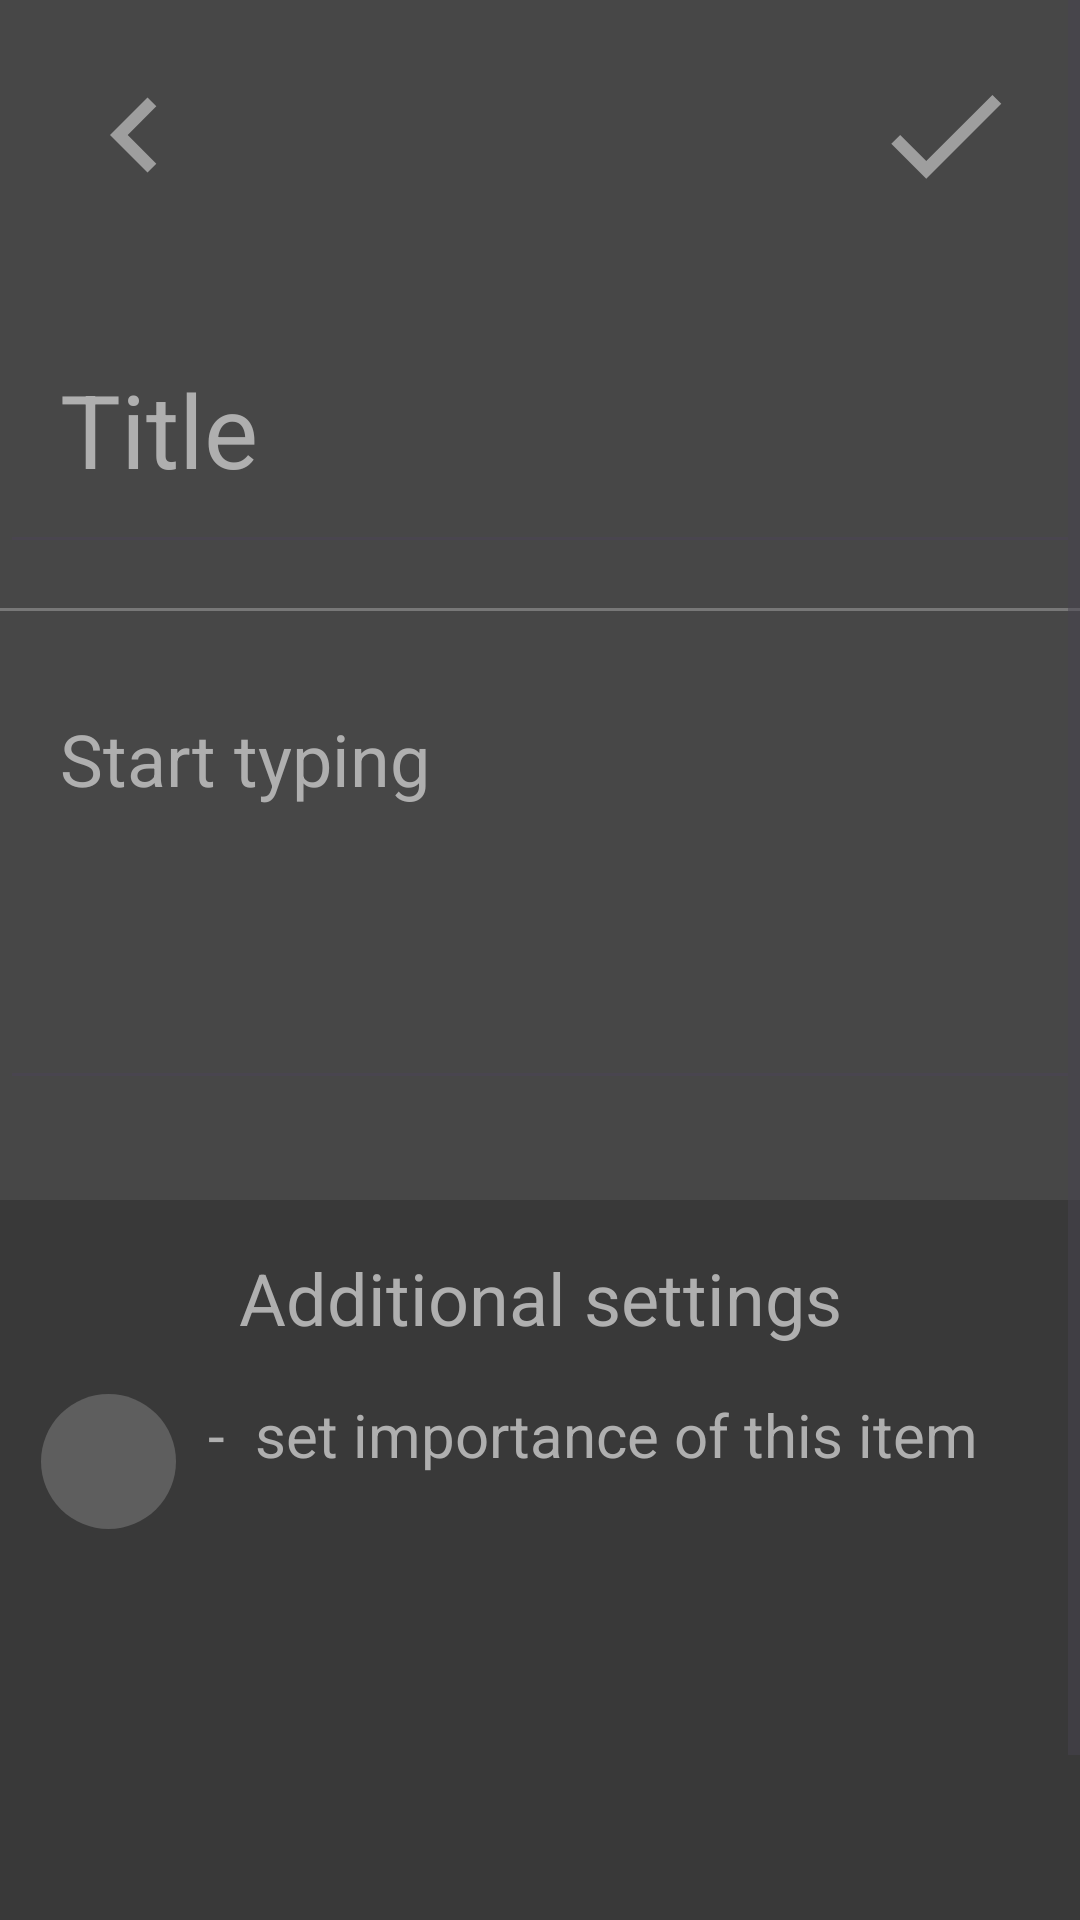

Icons on this 1080w x 1920h Android screen, each with its box as bbox(x1, y1, x2, y2):
check: bbox(891, 95, 1001, 179)
keyboard arrow left: bbox(110, 98, 156, 172)
